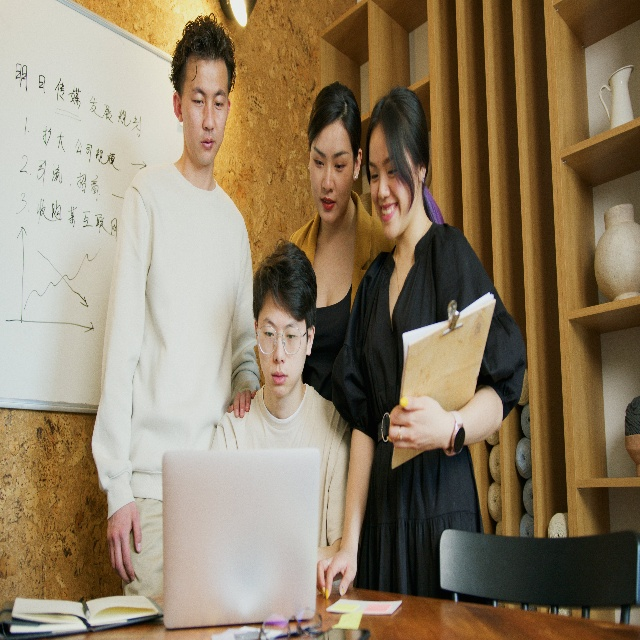Gafas: (258, 608, 323, 640), (256, 324, 309, 354)
Sin_guantes: (389, 394, 447, 451), (106, 502, 142, 584), (316, 548, 358, 600), (227, 389, 257, 419)
